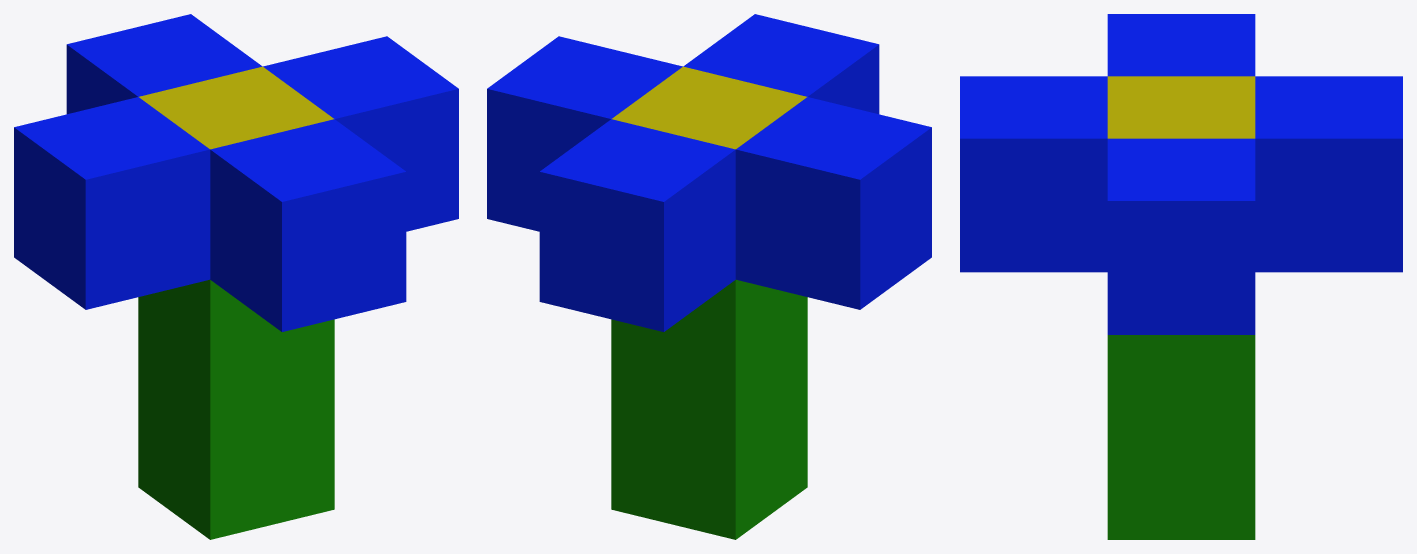
Rendered from (3) Blue Flowers (Stage 4).obj.
3 renders of one model, left to right at view 1: azimuth 30°, elevation 25°; view 2: azimuth 150°, elevation 25°; view 3: azimuth 270°, elevation 25°, orthographic. The views are drawn at different scales.
Size of the model in its own units: 0.3 by 0.3 by 0.3.
Materials: 1 (1 with a texture image).
